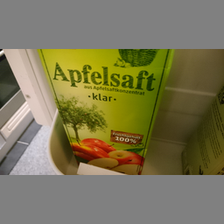juice: (38, 50, 175, 173)
